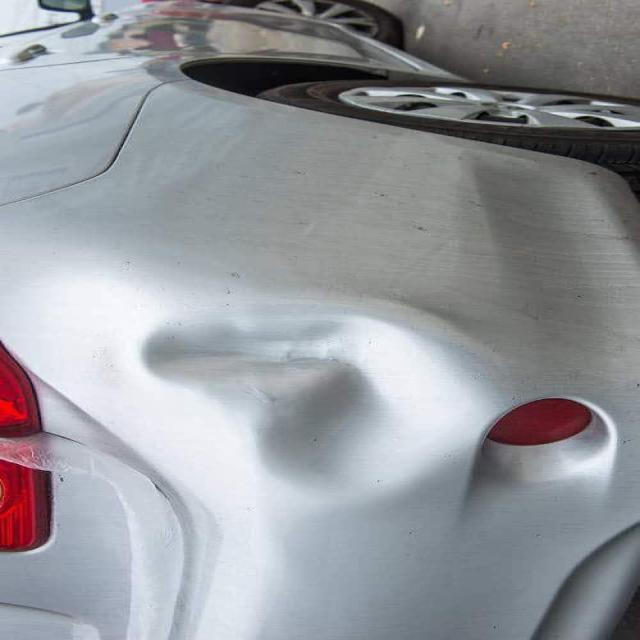dent: (106, 296, 498, 510)
